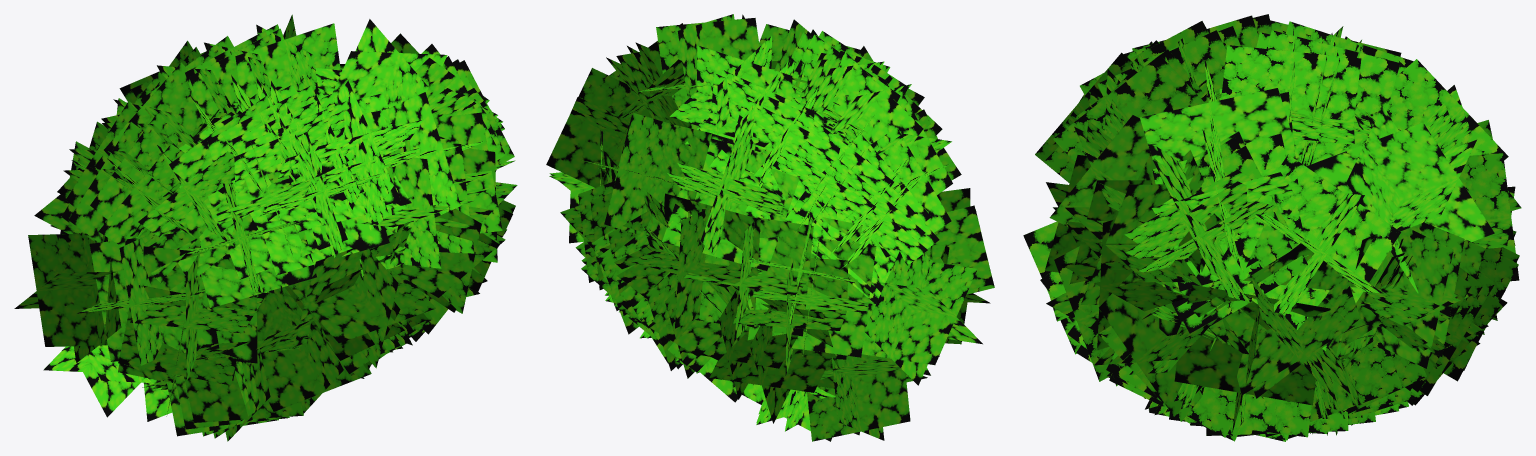
Rendered from Treeleavesmul 1.fbx.
3 renders of one model, left to right at view 1: azimuth 30°, elevation 25°; view 2: azimuth 150°, elevation 25°; view 3: azimuth 270°, elevation 25°, orthographic. The views are drawn at different scales.
Visible parts, largest first — view 1: Leaves.060; view 2: Leaves.060; view 3: Leaves.060.
Boxes of the visible parts, box(x1,y1,x2,y2) form: Leaves.060: box(14, 14, 517, 441); Leaves.060: box(546, 14, 994, 441); Leaves.060: box(1023, 14, 1521, 441).
Bounding box in the file's own units: 12.31 × 9.83 × 10.28.
